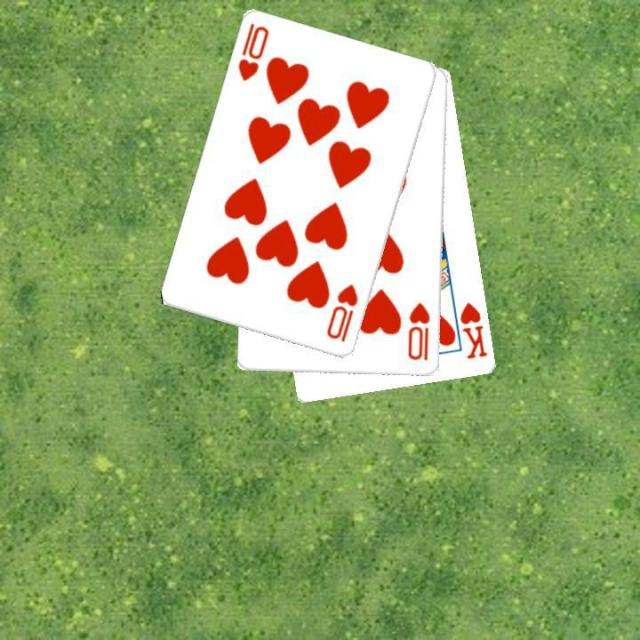10H: (323, 280, 360, 344), (234, 20, 271, 84), (404, 298, 433, 362)
KH: (456, 299, 490, 361)
